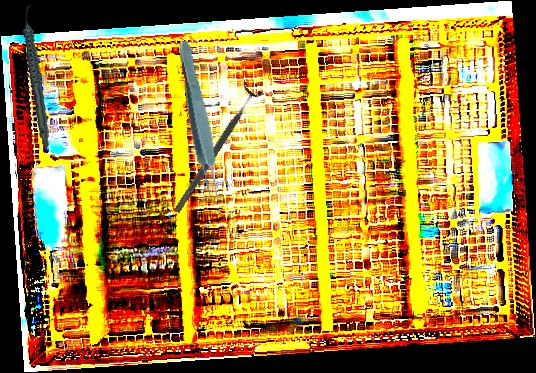Fixation Ring: (166, 81, 264, 218)
Handpiece: (12, 4, 62, 147)
Tissue Forceps: (172, 39, 225, 202)
